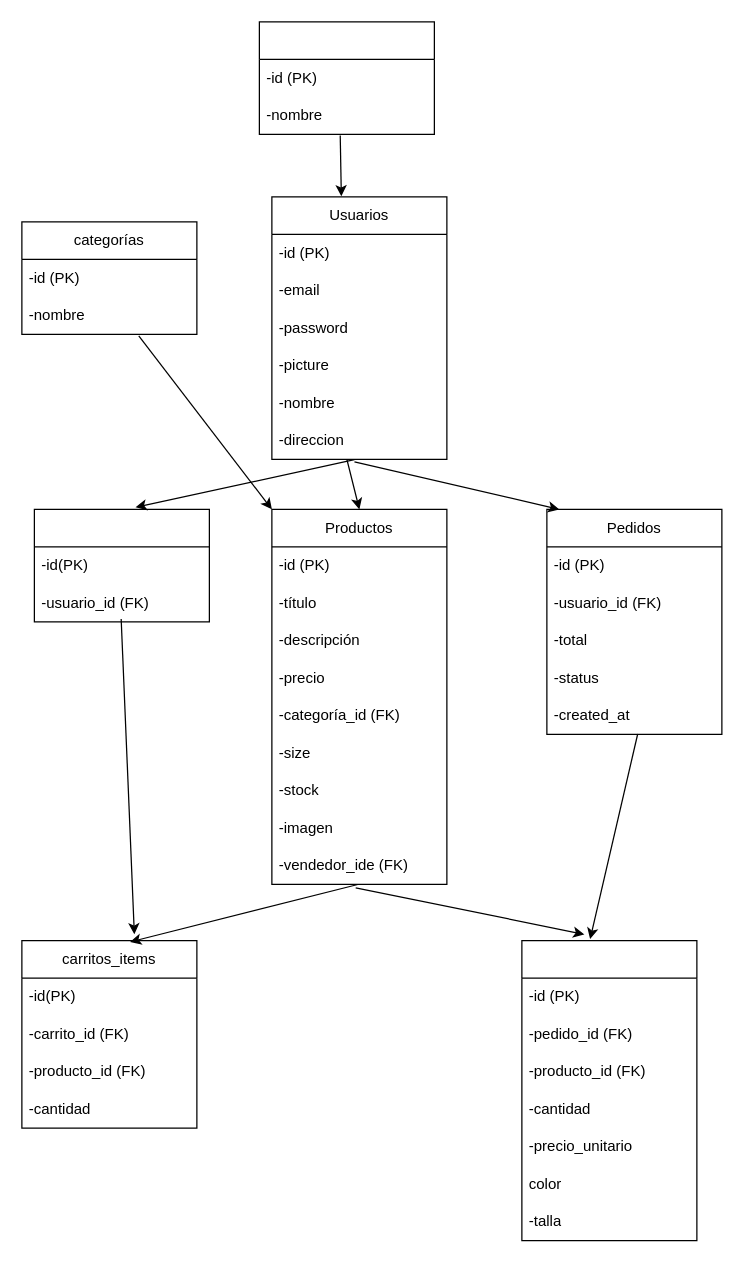
Image size: 744x1263. Some labels were removed from this diagram. The box of each missing label's shape, as (x1, y1, x2, y2) in pixels:
Carrito: (33, 508, 209, 622)
pedido_items: (521, 939, 697, 1241)
Tipo_usuario: (258, 21, 434, 134)
